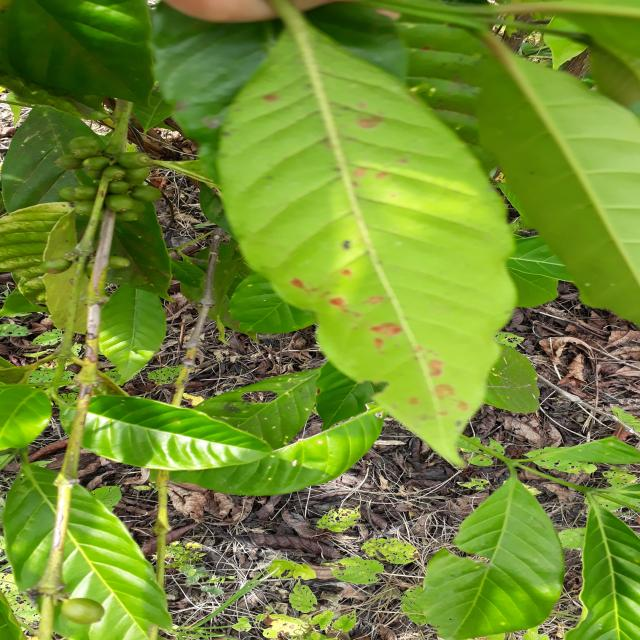Plaga-AranaRoja: (211, 0, 526, 470)
